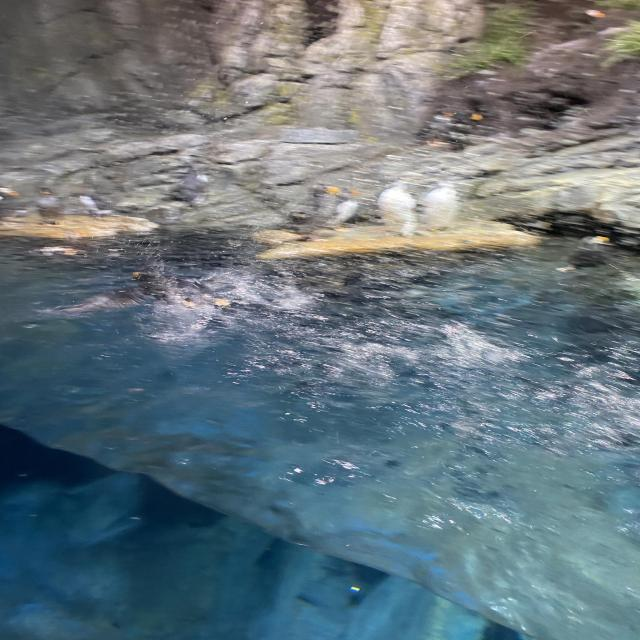puffin: (62, 270, 241, 318), (276, 183, 338, 239), (418, 180, 461, 235), (377, 182, 418, 236), (167, 164, 216, 208), (558, 234, 610, 274), (321, 186, 358, 224), (416, 111, 452, 148), (560, 8, 604, 36), (450, 112, 480, 148), (34, 188, 64, 223), (0, 188, 19, 210)
